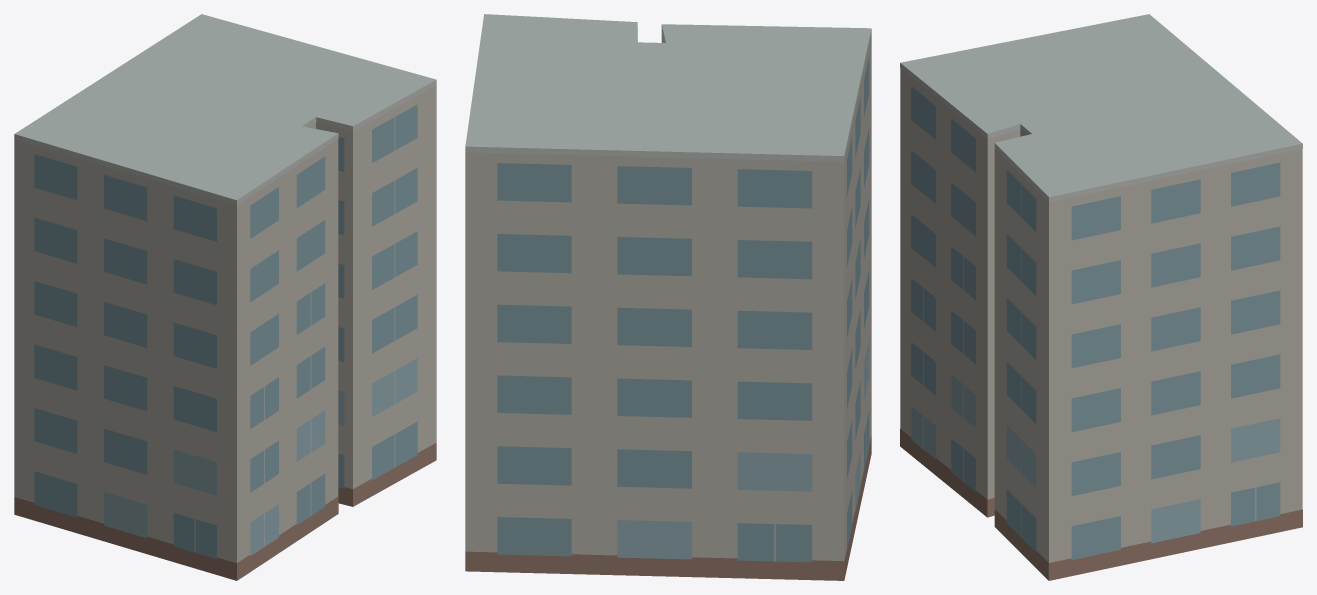
Rendered from survey-upis-32980013.glb.
3 renders of one model, left to right at view 1: azimuth 30°, elevation 25°; view 2: azimuth 150°, elevation 25°; view 3: azimuth 270°, elevation 25°, orthographic. The views are drawn at different scales.
Parts seen in each view (by area): view 1: survey-upis-32980013.tmp; view 2: survey-upis-32980013.tmp; view 3: survey-upis-32980013.tmp.
Part boxes in pixels (bbox=[...]): survey-upis-32980013.tmp: bbox=[14, 14, 436, 580]; survey-upis-32980013.tmp: bbox=[465, 14, 871, 580]; survey-upis-32980013.tmp: bbox=[900, 14, 1302, 580].
Bounding box in the file's own units: 18.5 × 18.05 × 17.18.
